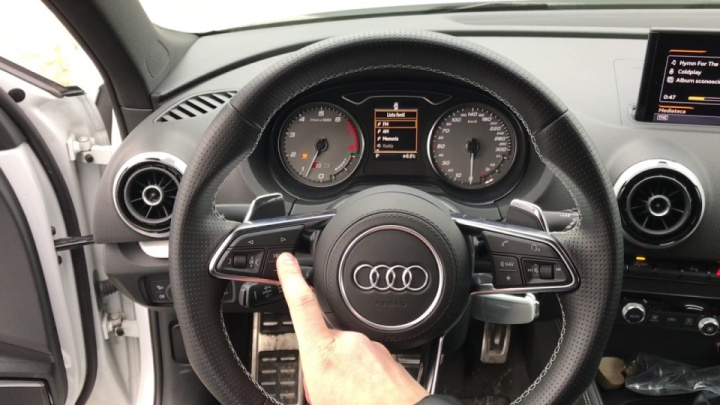audi: (348, 258, 430, 296)
